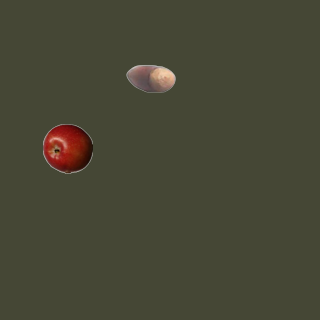Apple Braeburn: (42, 123, 92, 173)
Hazelnut: (125, 53, 175, 103)
